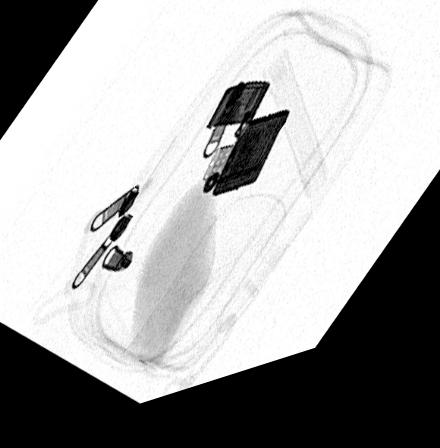Lighter: (201, 95, 291, 208)
